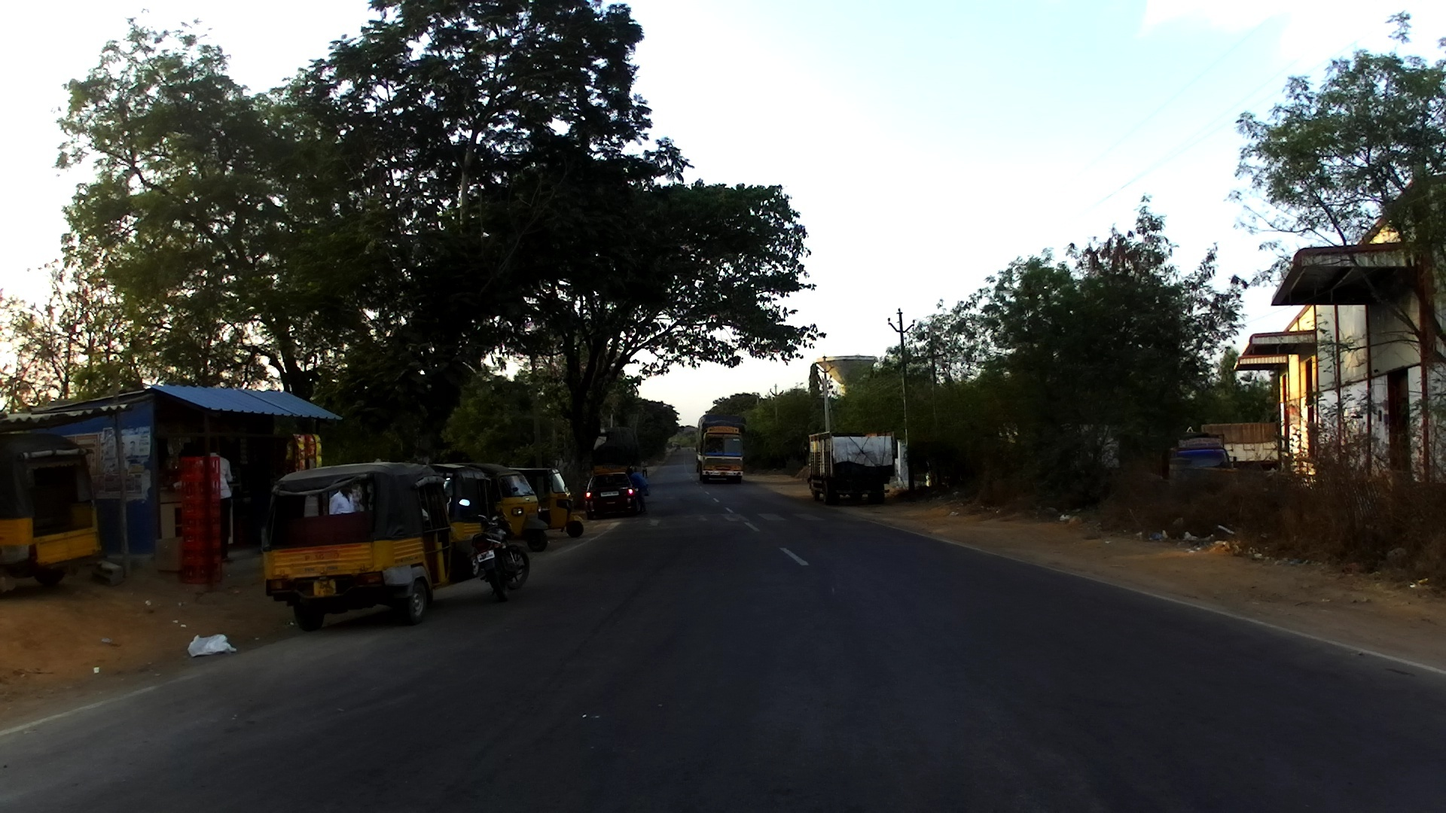autorickshaw: (261, 459, 455, 626), (2, 428, 102, 583), (454, 458, 551, 556), (424, 459, 497, 588), (508, 462, 586, 537)
car: (581, 469, 641, 519)
motorcycle: (456, 497, 529, 605)
person: (175, 440, 235, 568), (641, 454, 649, 477)
rider: (627, 461, 647, 513)
truck: (801, 426, 903, 508), (1199, 421, 1285, 478), (1167, 430, 1240, 492), (692, 412, 749, 483), (593, 424, 644, 476)
